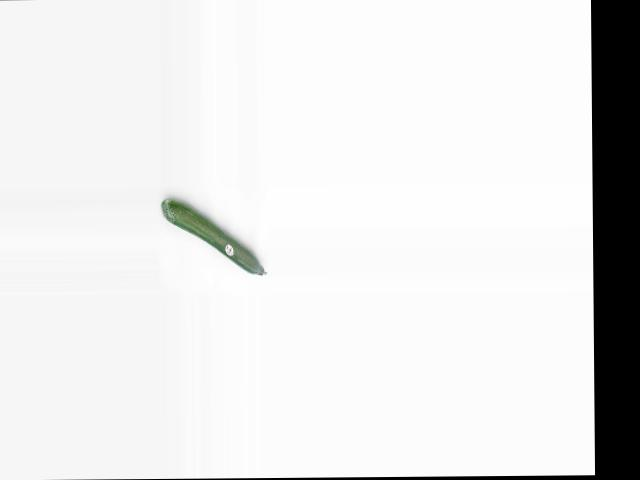cucumber: (162, 198, 267, 276)
